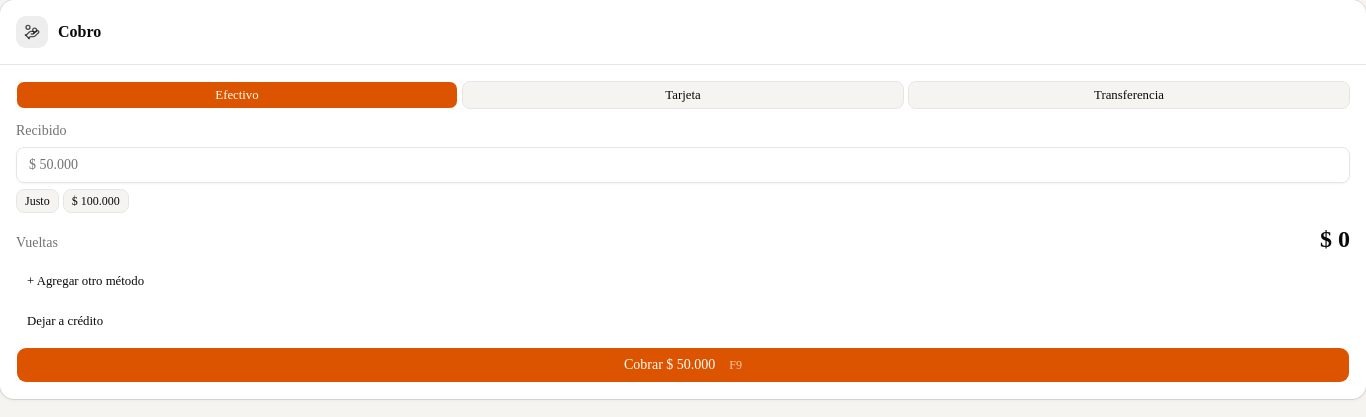
Test: TarjetaCobro › si se quita el cliente tras marcar crédito, la marca se reinicia y no vuelve con otro cliente
The image size is (1366, 417).
Click the button "Dejar a crédito": [65, 321] box 16,307 -> 114,335
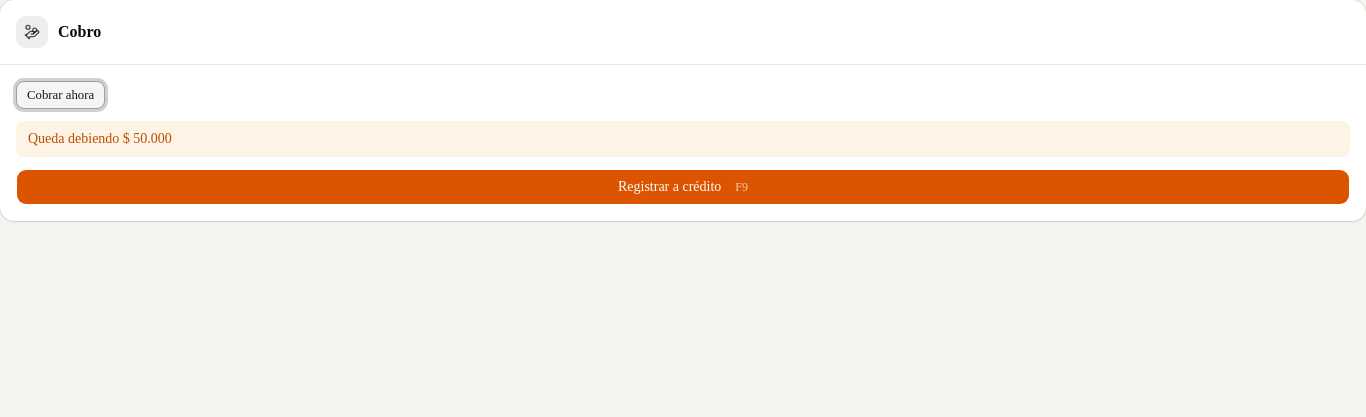
Now the button "Registrar a crédito F9" is shown, box 16,169 -> 1350,205
